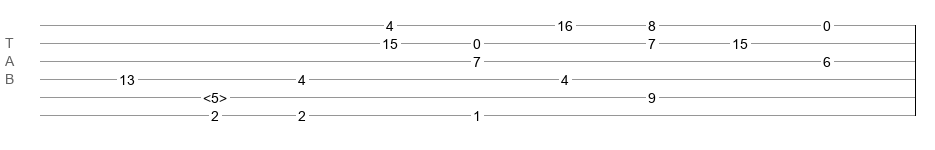0: (473, 36, 481, 46), (823, 18, 831, 28)
1: (473, 108, 481, 118)
13: (119, 72, 135, 82)
15: (382, 36, 398, 46), (732, 36, 748, 46)
16: (557, 18, 573, 28)
2: (211, 108, 219, 118), (298, 108, 306, 118)
4: (298, 72, 306, 82), (386, 18, 394, 28), (561, 72, 569, 82)
6: (823, 54, 831, 64)
7: (473, 54, 481, 64), (648, 36, 656, 46)
8: (648, 18, 656, 28)
9: (648, 90, 656, 100)
harmonic: (203, 90, 227, 100)
